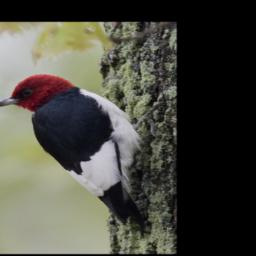Woodpecker: (0, 72, 160, 236)
